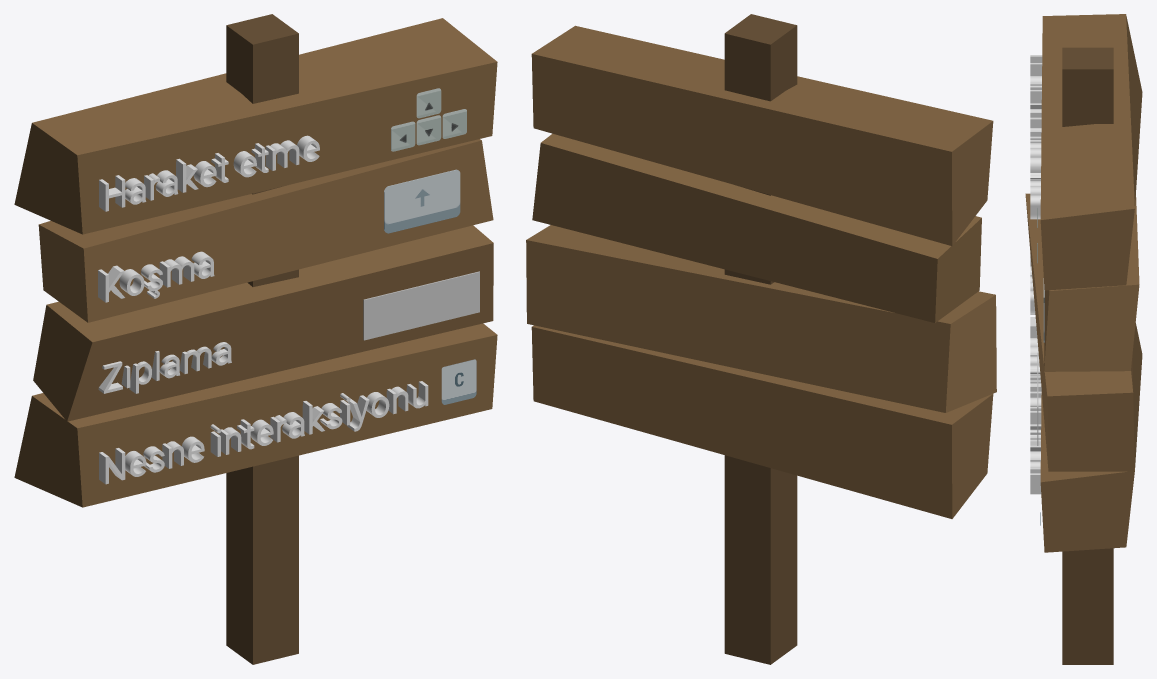
Rendered from signstart.fbx.
3 renders of one model, left to right at view 1: azimuth 30°, elevation 25°; view 2: azimuth 150°, elevation 25°; view 3: azimuth 270°, elevation 25°, orthographic. The views are drawn at different scales.
Visible parts, largest first — view 1: Cube.001, Cube.003, Cube.004, Cube.002, Cube, Text, icons8-space-key-96, icons8-shift-96 (1), pngegg (1), icons8-c-key-96; view 2: Cube.001, Cube.003, Cube.004, Cube.002, Cube; view 3: Cube.001, Cube.003, Cube, Cube.002, Cube.004, Text.
Part boxes in pixels (x1,y1,x2,y2): Cube.001: [14, 18, 497, 234]; Cube.003: [33, 225, 493, 421]; Cube.004: [14, 323, 497, 507]; Cube.002: [38, 139, 493, 322]; Cube: [226, 14, 298, 664]; Text: [98, 135, 428, 484]; icons8-space-key-96: [363, 271, 479, 340]; icons8-shift-96 (1): [384, 169, 460, 233]; pngegg (1): [391, 88, 466, 151]; icons8-c-key-96: [441, 359, 476, 404]; Cube.001: [531, 25, 993, 245]; Cube.003: [526, 225, 996, 412]; Cube.004: [531, 325, 993, 518]; Cube.002: [532, 133, 981, 322]; Cube: [724, 14, 797, 664]; Cube.001: [1040, 14, 1142, 290]; Cube.003: [1025, 193, 1134, 471]; Cube: [1062, 47, 1113, 664]; Cube.002: [1044, 195, 1139, 371]; Cube.004: [1040, 323, 1142, 552]; Text: [1030, 55, 1042, 494].
Bounding box in the file's own units: 198 × 272 × 48.44.
